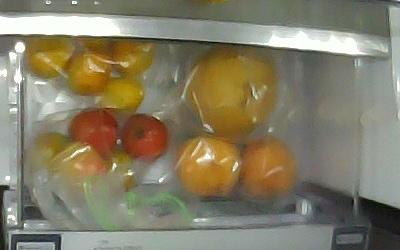peach_vinyl: (178, 136, 241, 195), (241, 140, 296, 195)
pear_vinyl: (186, 44, 278, 139)
tangerine_vinyl: (67, 49, 111, 95), (27, 35, 75, 77), (111, 37, 154, 77), (102, 75, 144, 113), (80, 37, 117, 56)
tomato_vinyl: (69, 109, 118, 157), (53, 142, 106, 183), (121, 114, 168, 159), (31, 132, 69, 172), (103, 150, 133, 191)
